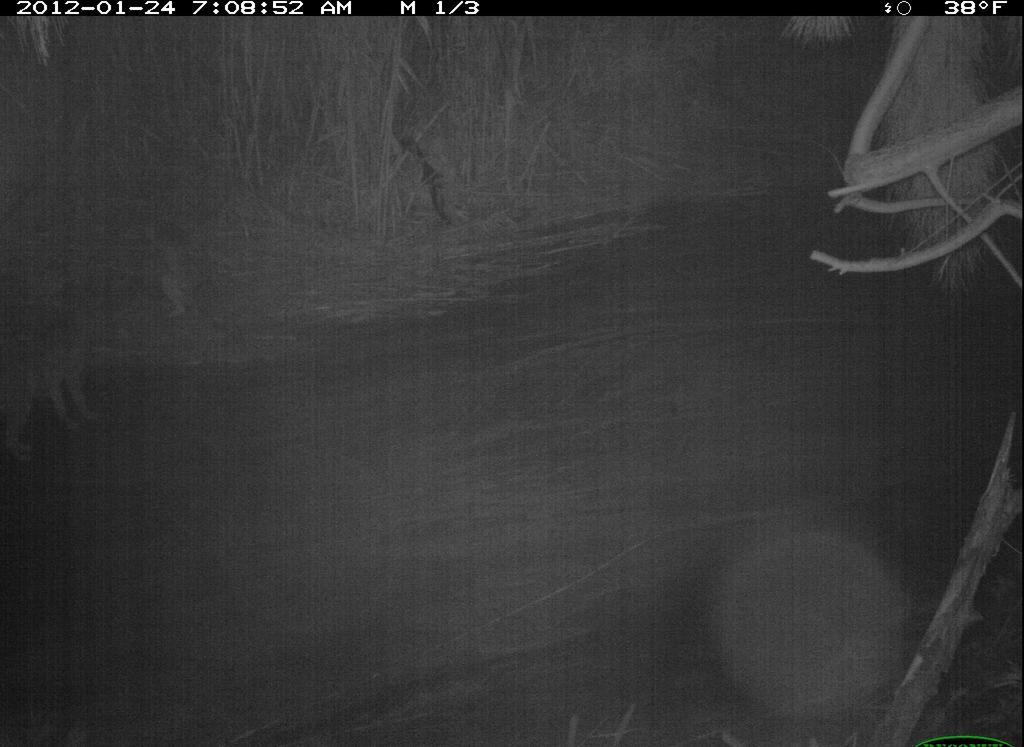coyote: (11, 249, 169, 464)
